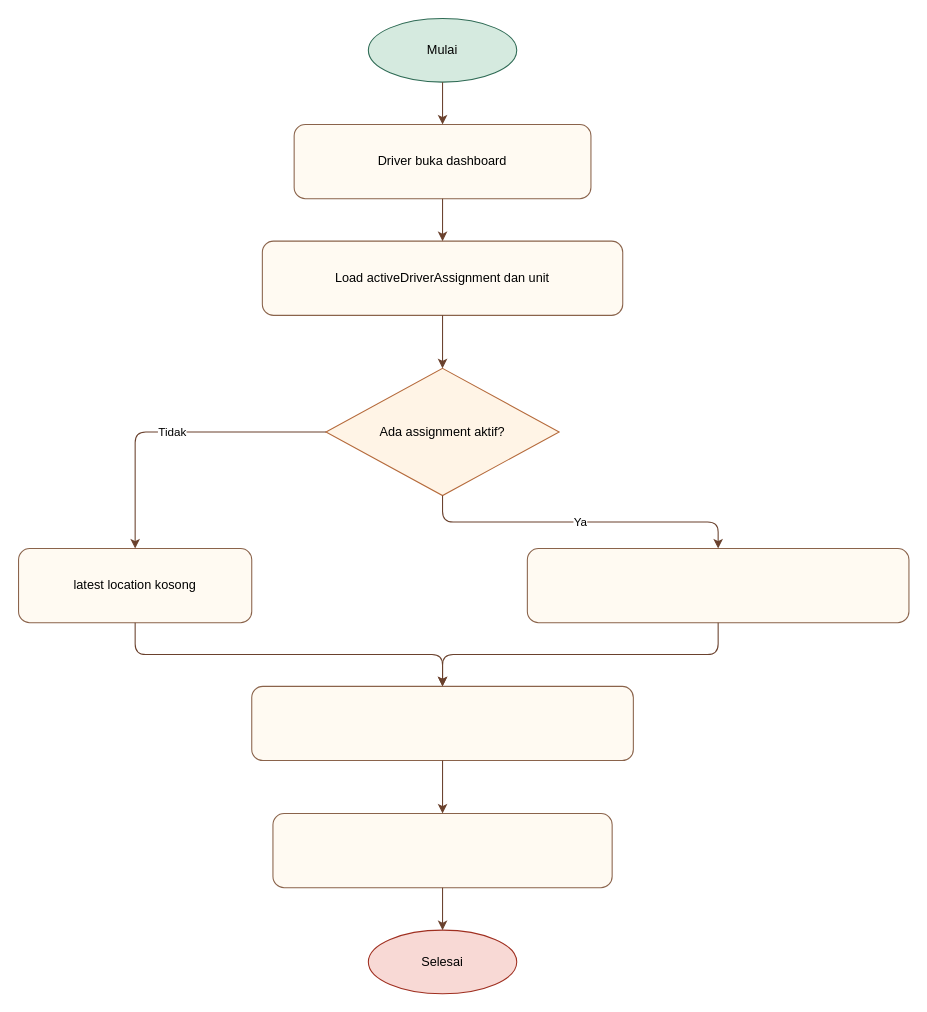
Image size: 927x1012. Some labels were removed from this diagram. The shapes that lost their labels are listed below. From the top down, each one's centre as x and y in pixels, then its label:
At pixel 717 585: "Ambil latest location berdasarkan device_id driver".
At pixel 442 723: "Ambil 5 assignment terakhir".
At pixel 442 850: "Tampilkan driver dashboard".
